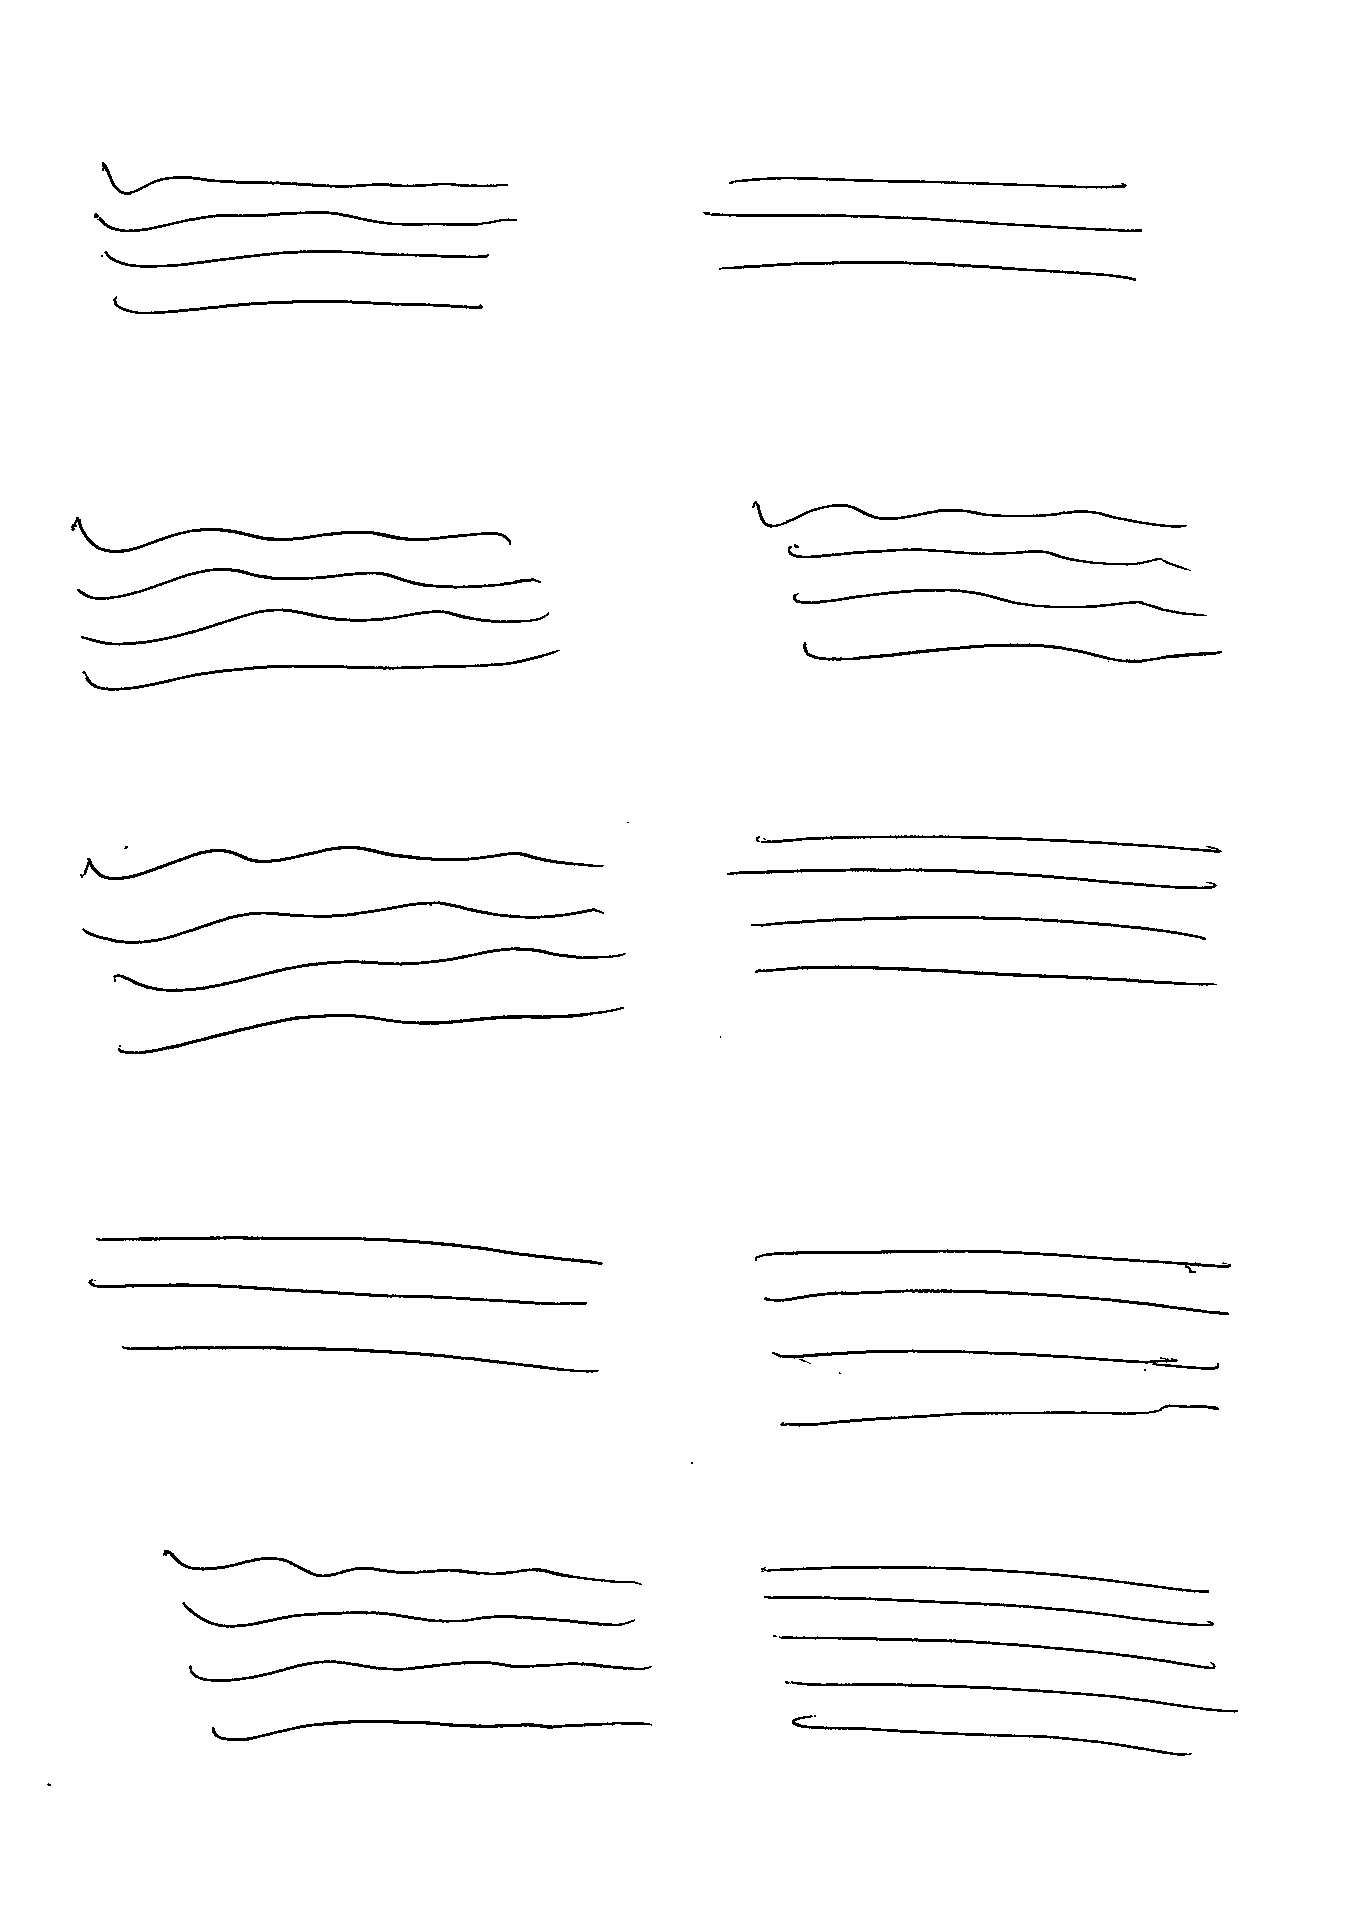Paragraph: (80, 843, 625, 1056), (163, 1550, 652, 1745), (761, 1563, 1239, 1759), (755, 1248, 1233, 1428), (71, 517, 556, 695), (724, 832, 1226, 989), (752, 501, 1226, 665), (84, 1235, 606, 1375), (92, 164, 517, 319), (701, 174, 1146, 282)
